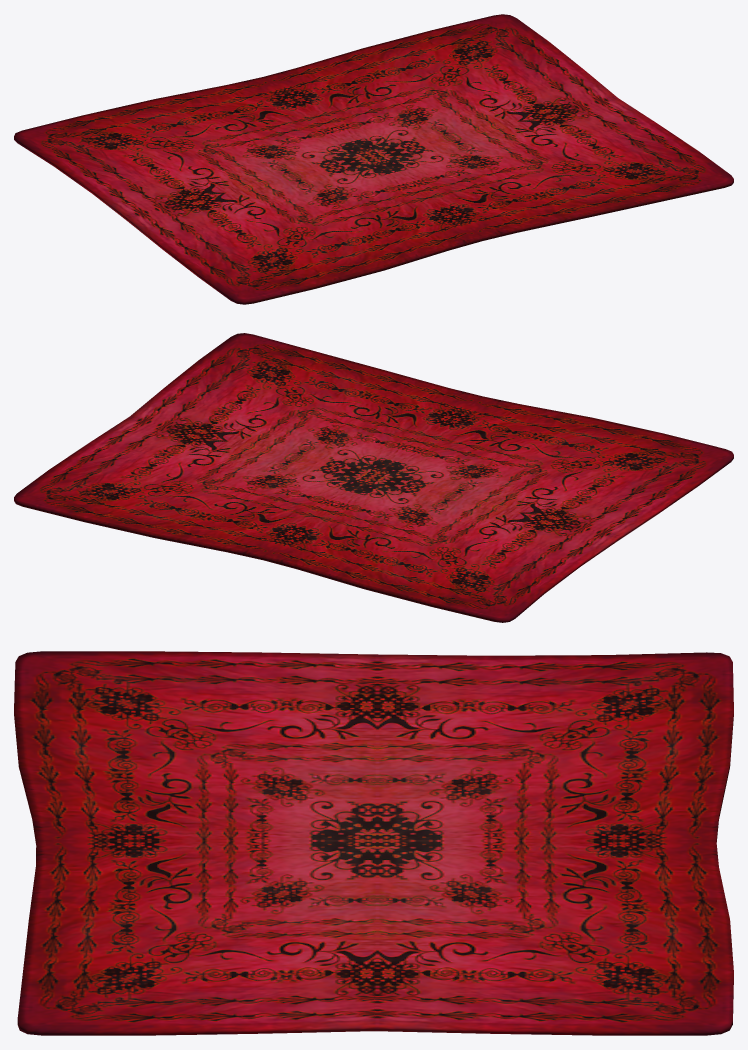
Rendered from VictorianCarpet_HD.fbx.
3 views of the same model, one above another, from view 1: azimuth 30°, elevation 25°; view 2: azimuth 150°, elevation 25°; view 3: azimuth 270°, elevation 25° (orthographic). The views are drawn at different scales.
Visible parts, largest first — view 1: VictorianCarpet; view 2: VictorianCarpet; view 3: VictorianCarpet.
Boxes of the visible parts, <box> form: VictorianCarpet: <box>14,14,733,304</box>; VictorianCarpet: <box>14,333,733,622</box>; VictorianCarpet: <box>14,651,733,1035</box>.
Size of the model in its own units: 2.31 by 0.016 by 1.86.
